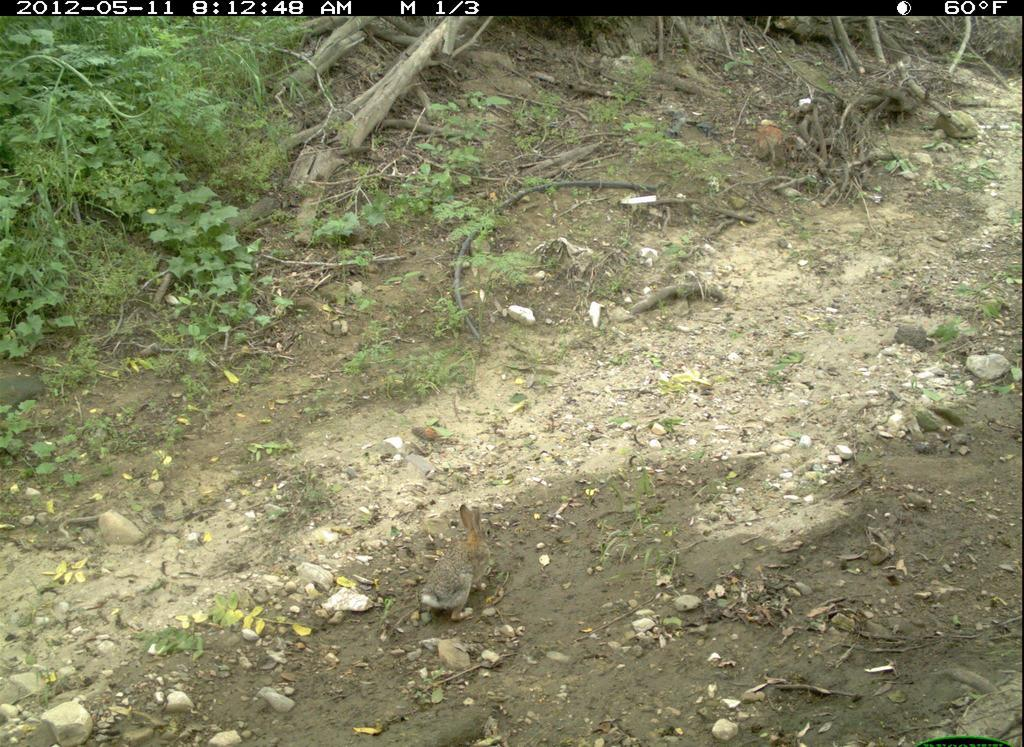rabbit: (410, 496, 507, 630)
